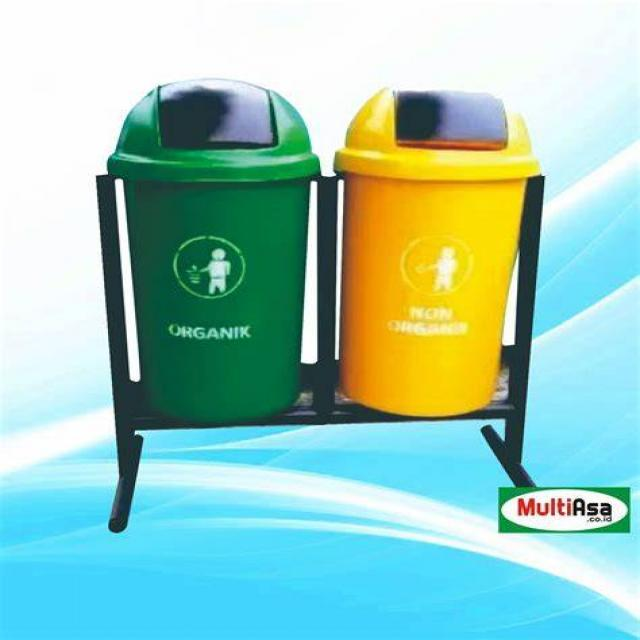garbage container: (86, 66, 344, 434), (333, 67, 552, 428)
